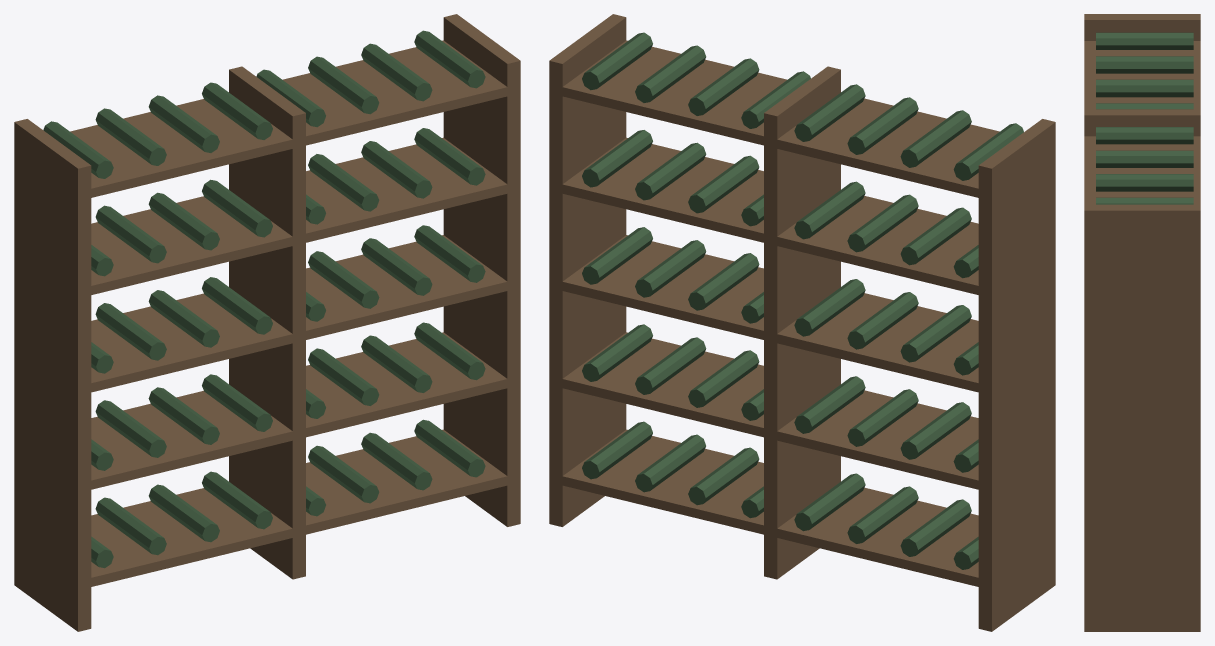
File: WineRack.glb
3 views of the same model, side by side, from view 1: azimuth 30°, elevation 25°; view 2: azimuth 150°, elevation 25°; view 3: azimuth 270°, elevation 25° (orthographic). The views are drawn at different scales.
Visible parts, largest first — view 1: WineRack; view 2: WineRack; view 3: WineRack.
Boxes of the visible parts, <box> form: WineRack: <box>14,14,520,631</box>; WineRack: <box>549,14,1055,631</box>; WineRack: <box>1084,14,1200,631</box>.
Bounding box in the file's own units: 2 × 2 × 0.5.
